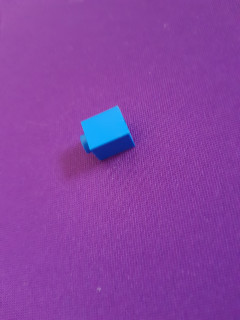1x1 blue: (75, 103, 138, 165)
